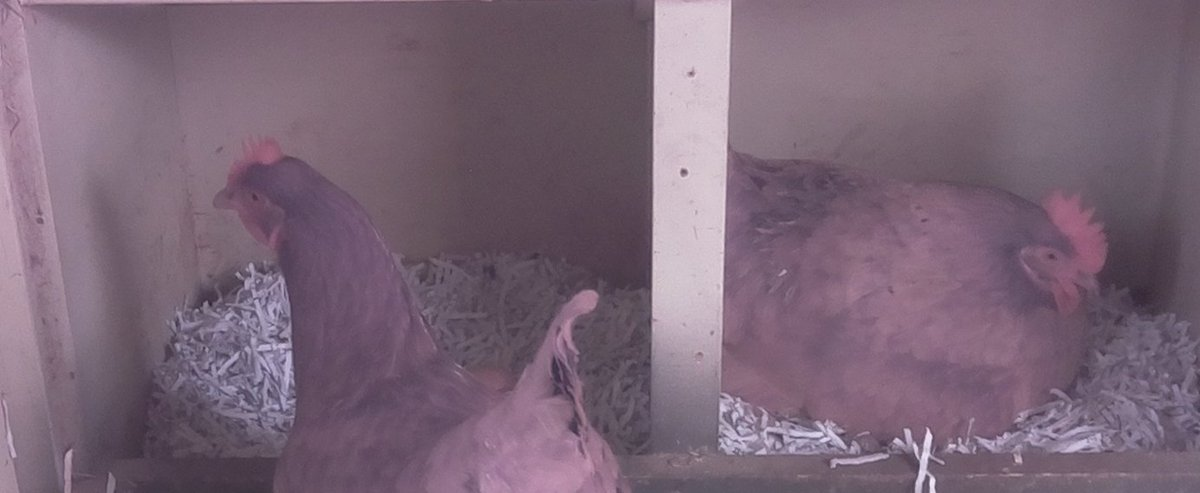hen: (206, 128, 631, 493), (729, 149, 1117, 452)
